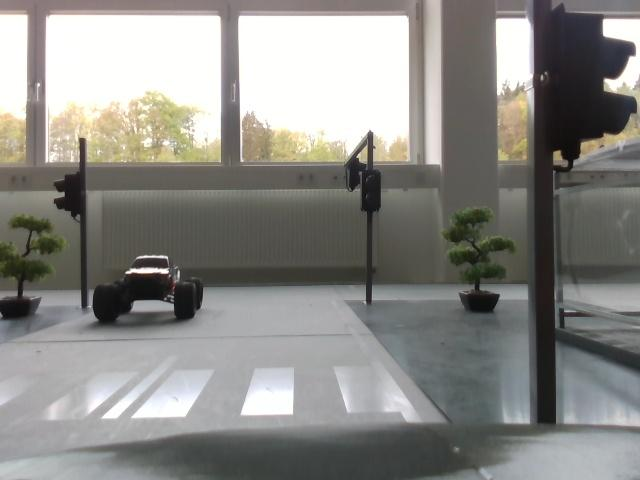car: (92, 253, 214, 328)
potted plant: (1, 209, 71, 321), (450, 204, 517, 312)
traffic light: (527, 8, 640, 159), (53, 165, 93, 225), (353, 163, 394, 218)
